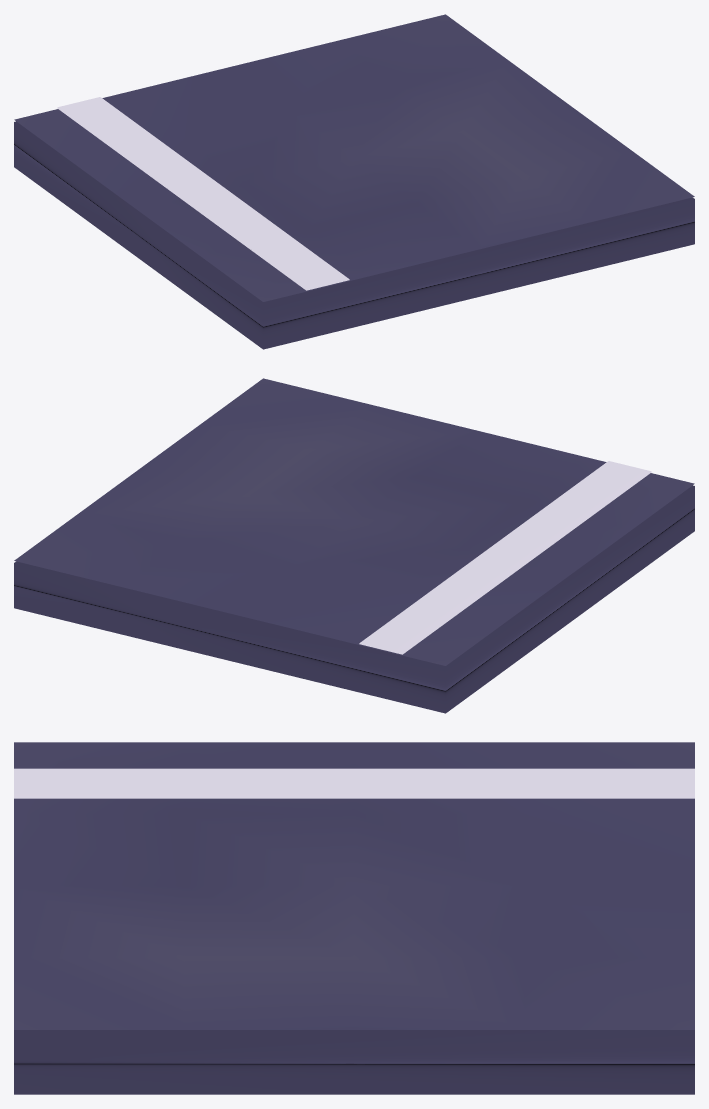
The model's file is tile_lane_edge.glb.
3 views of the same model, one above another, from view 1: azimuth 30°, elevation 25°; view 2: azimuth 150°, elevation 25°; view 3: azimuth 270°, elevation 25° (orthographic). The views are drawn at different scales.
Visible parts, largest first — view 1: Tile.001; view 2: Tile.001; view 3: Tile.001.
Boxes of the visible parts, left/top/right/bottom form: Tile.001: left=14, top=14, right=694, bottom=349; Tile.001: left=14, top=378, right=694, bottom=713; Tile.001: left=14, top=742, right=694, bottom=1094.
Bounding box in the file's own units: 1 × 0.109 × 1.
